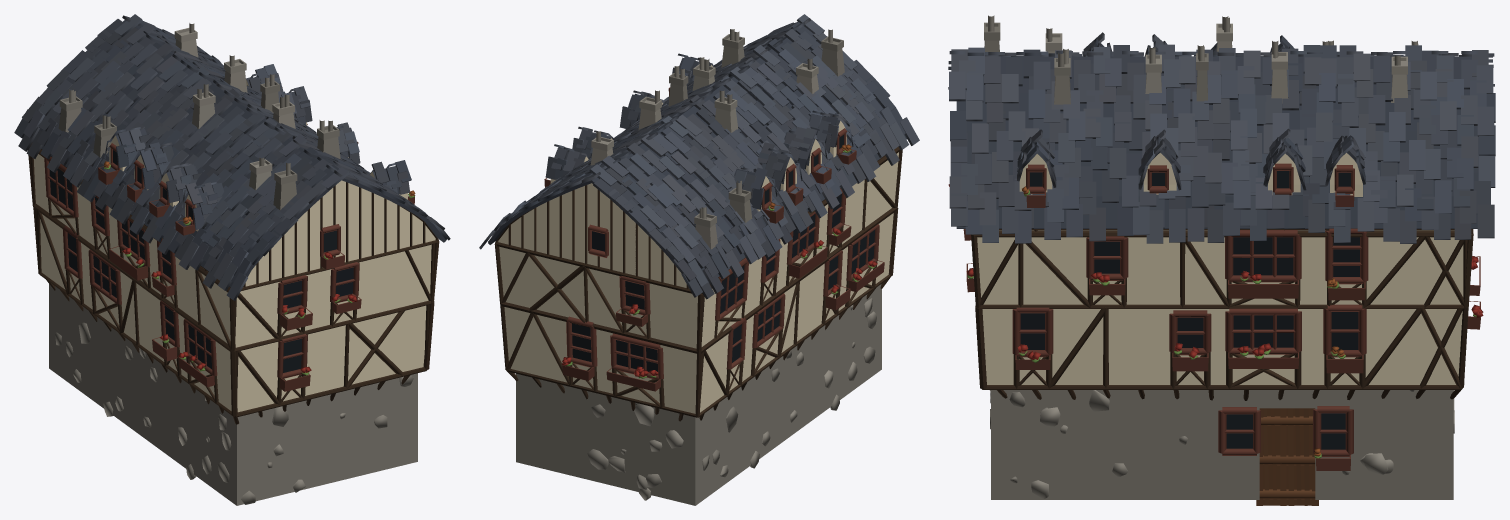
The model's file is house_18.glb.
3 renders of one model, left to right at view 1: azimuth 30°, elevation 25°; view 2: azimuth 150°, elevation 25°; view 3: azimuth 270°, elevation 25°, orthographic. The views are drawn at different scales.
Parts seen in each view (by area): view 1: house_18; view 2: house_18; view 3: house_18.
Part boxes in pixels (<box>): house_18: <box>14,14,450,505</box>; house_18: <box>479,14,919,505</box>; house_18: <box>948,15,1495,505</box>.
Bounding box in the file's own units: 6.32 × 9.21 × 10.67.
